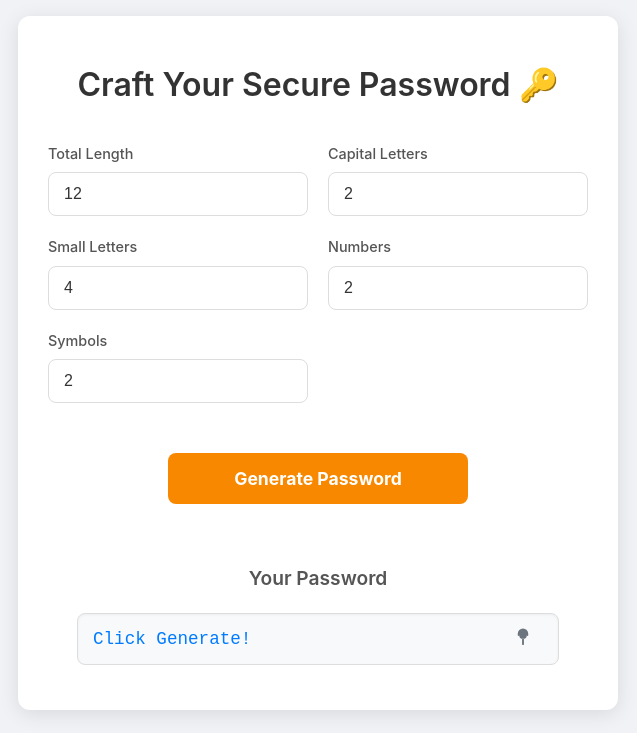
Scenario: Password Generator App Basic Functionality › generates a password on button click and updates the display
Simulate a click on the generate button
Click the button "Generate Password" at coordinates (318, 479), box [168,453,468,504]
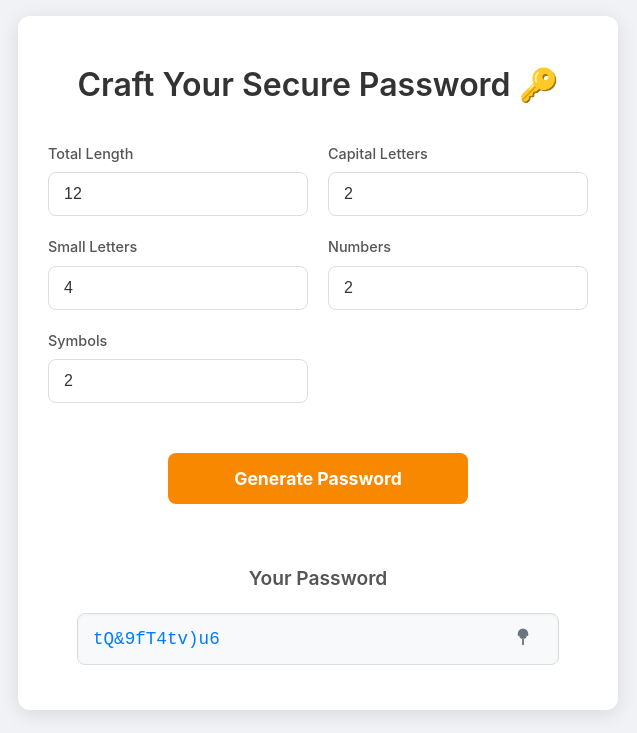
Expected: the field showing "Click Generate!" is not shown
Now the field is not empty, box [93,619,493,659]
